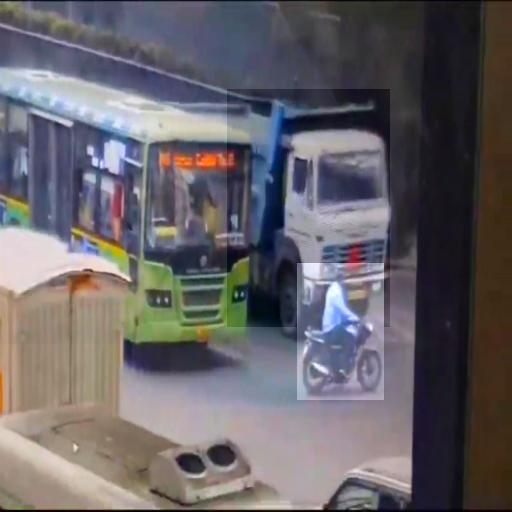小汽车: (1, 69, 246, 344), (227, 89, 390, 327)
自行车: (297, 263, 384, 400)
